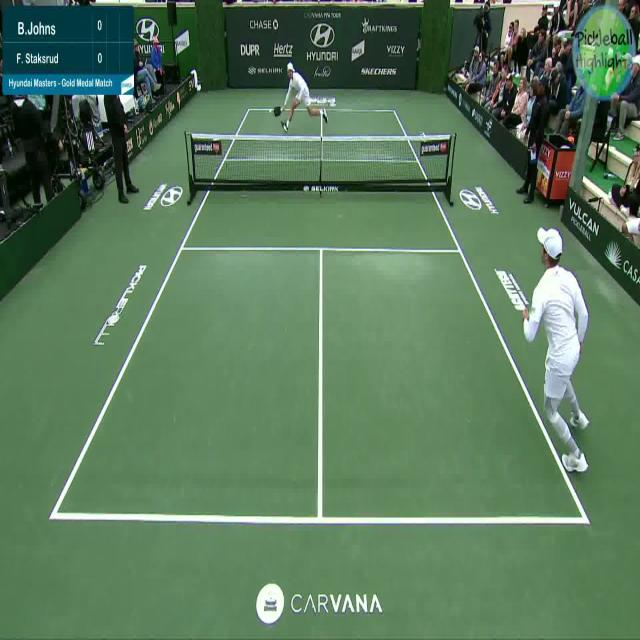ball: (268, 108, 273, 114)
